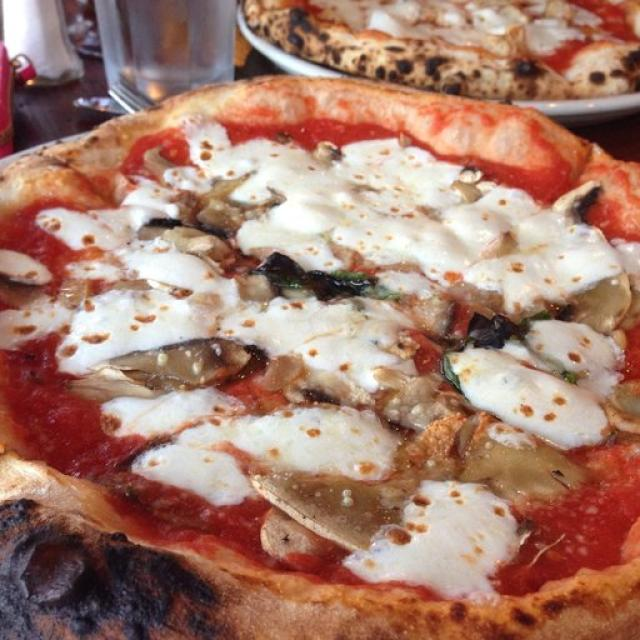Basil: (255, 257, 402, 302)
Mushrooms: (254, 460, 451, 556), (464, 411, 588, 495), (79, 341, 254, 399), (148, 178, 272, 250), (259, 353, 371, 407), (376, 368, 444, 428), (576, 273, 629, 326), (410, 292, 454, 343), (552, 182, 598, 226), (452, 283, 503, 313), (454, 184, 484, 204), (316, 138, 337, 160)
Pizza: (0, 76, 640, 640), (244, 0, 640, 105)
